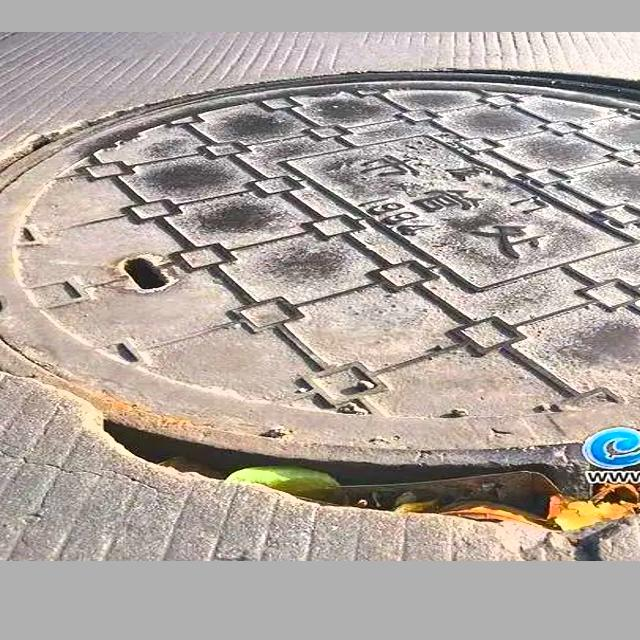circle: (0, 65, 640, 537)
